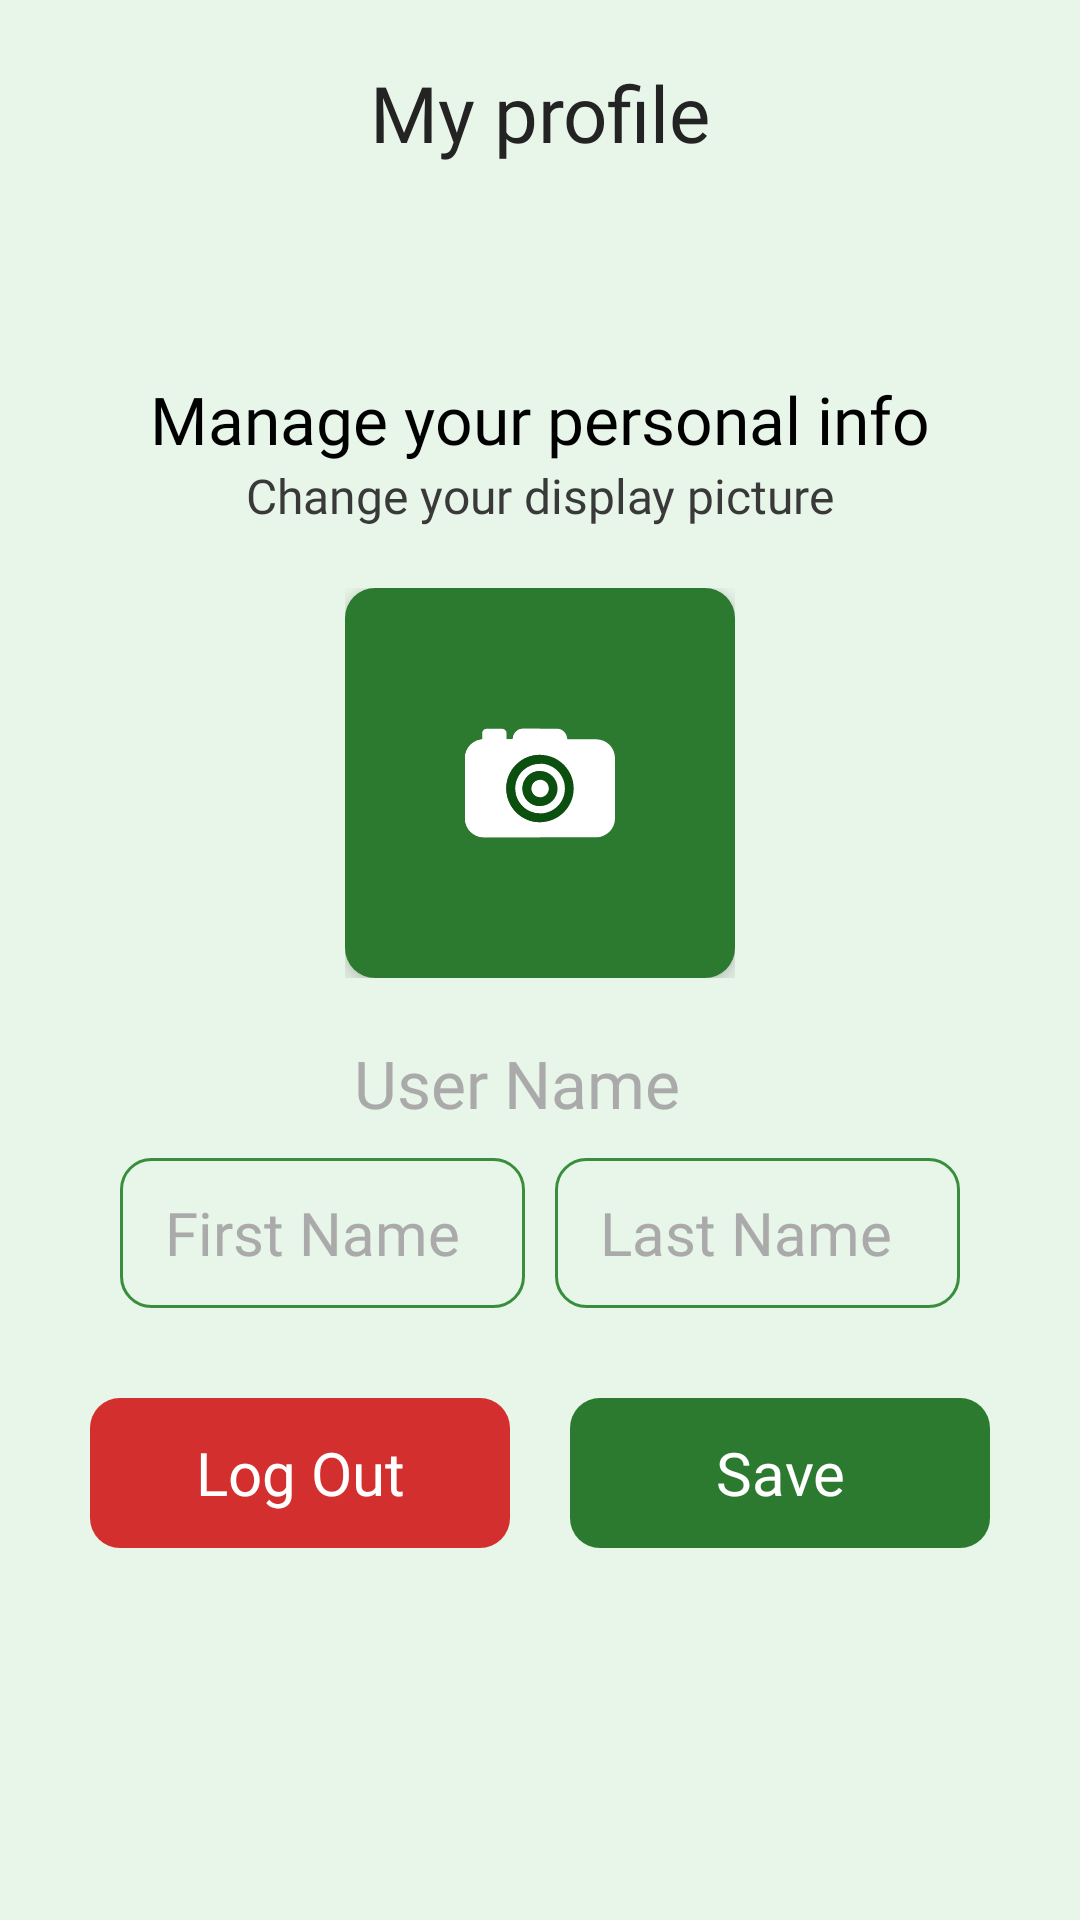

Where icons sit on this 1080w x 1920h app screen, as (x1, y1, x2, y2):
camera: (465, 728, 615, 838)
